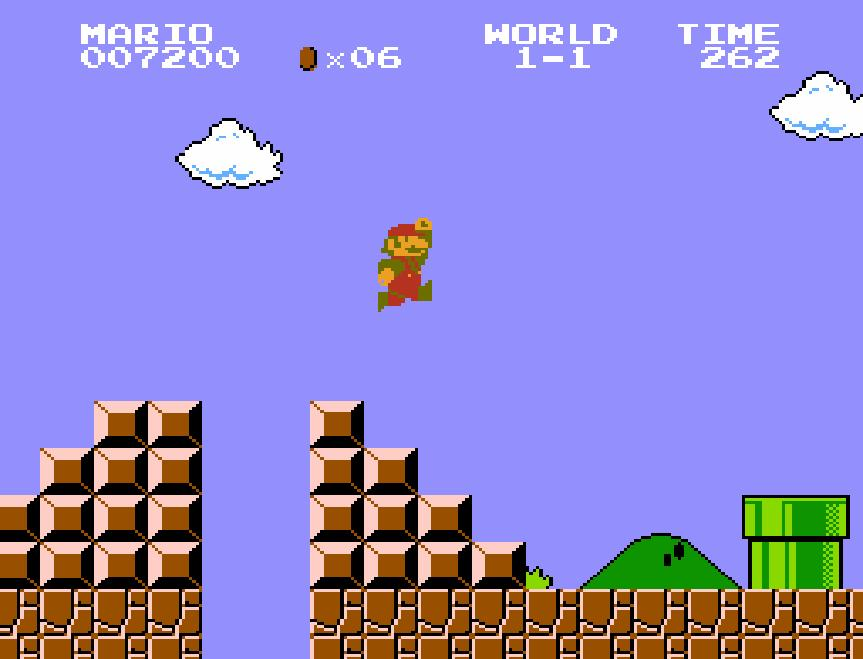big_mario: (376, 215, 434, 314)
